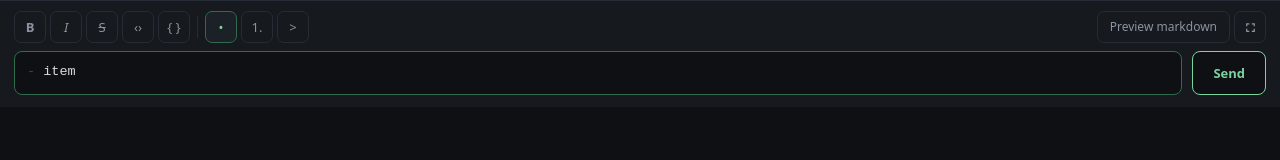
Scenario: the quote button › quotes the list item rather than replacing the list with it
Click the button named "Quote": coordinates (293, 27) [277, 11, 309, 43]
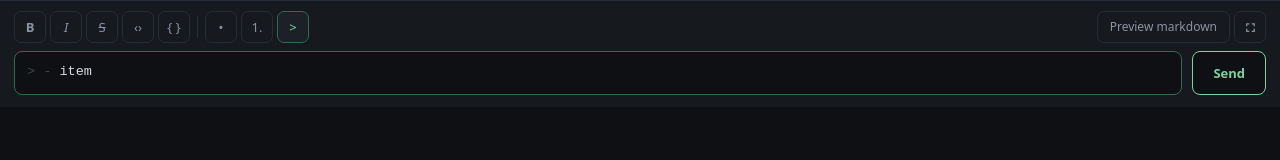
Check: the text box with class "cm-line" reads "> - item", box [27, 64, 92, 79]
